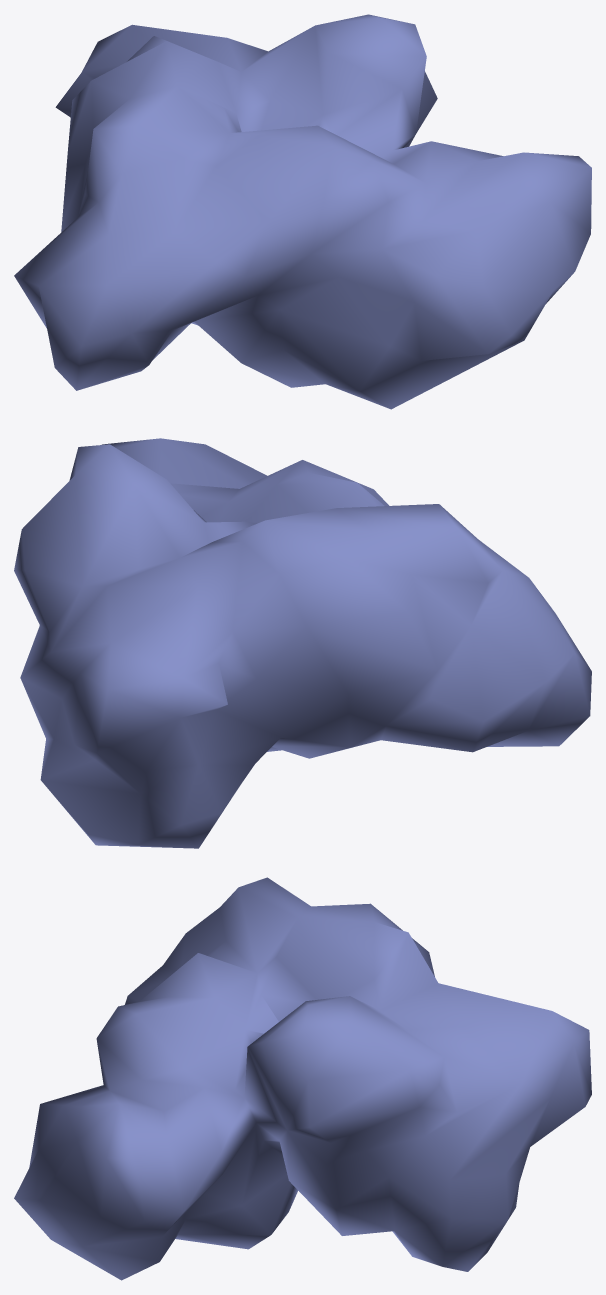
The model's file is MiinBloodPlasma_HSA_OleicAcid_1gni_0_1_0.dae.
3 views of the same model, one above another, from view 1: azimuth 30°, elevation 25°; view 2: azimuth 150°, elevation 25°; view 3: azimuth 270°, elevation 25° (orthographic). The views are drawn at different scales.
Visible parts, largest first — view 1: CoarseMS_1gni; view 2: CoarseMS_1gni; view 3: CoarseMS_1gni.
Boxes of the visible parts, x1,y1,x2,y2 form: CoarseMS_1gni: [14, 14, 591, 409]; CoarseMS_1gni: [14, 438, 591, 848]; CoarseMS_1gni: [14, 877, 591, 1280].
Size of the model in its own units: 90.39 by 51.82 by 90.69.
